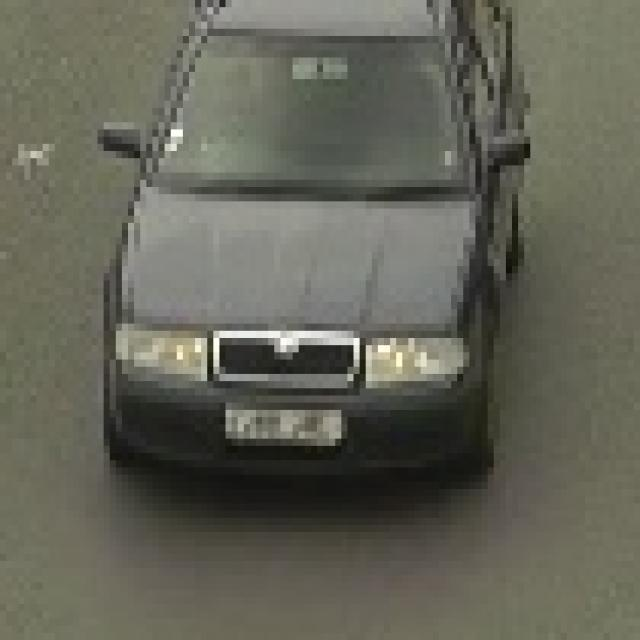SUV: (112, 0, 516, 483)
